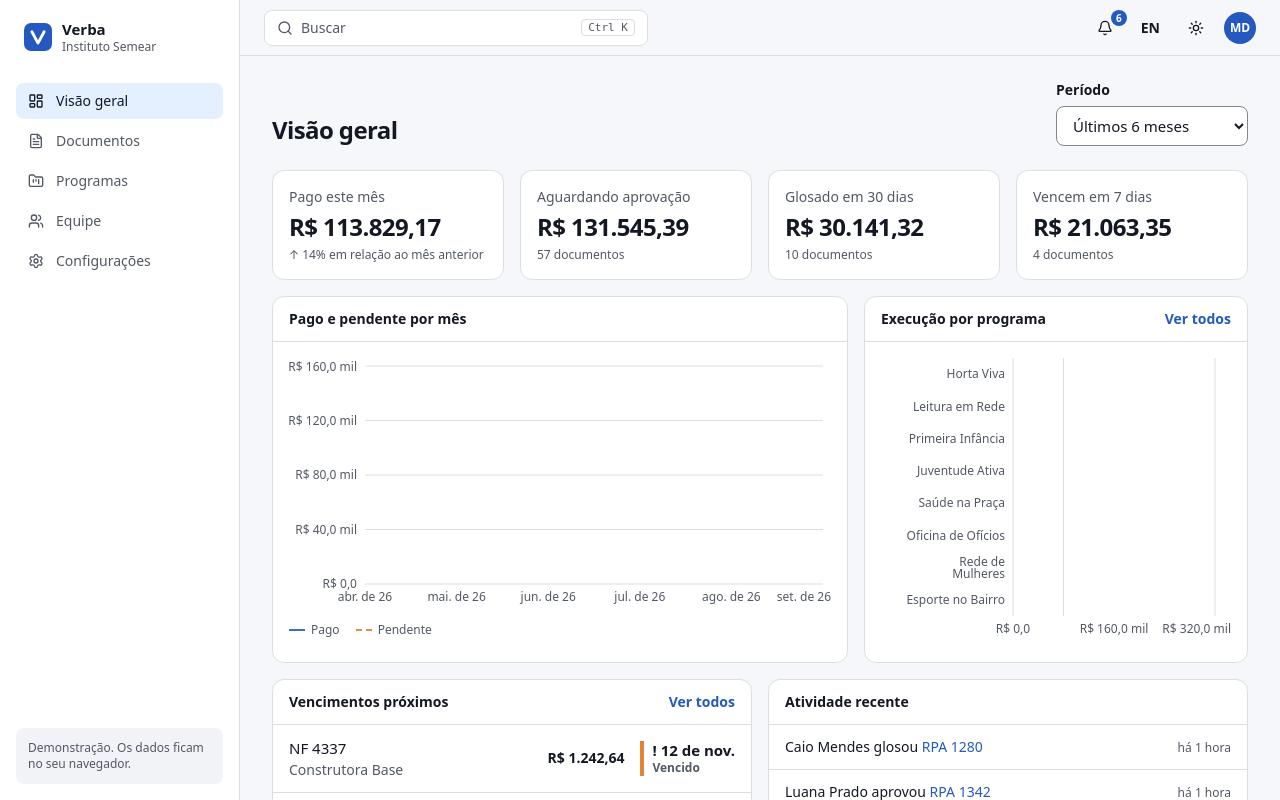
demo access › shows the login page again after signing out
The width and height of the screenshot is (1280, 800).
Type keys "{Control>}k{/Control}"
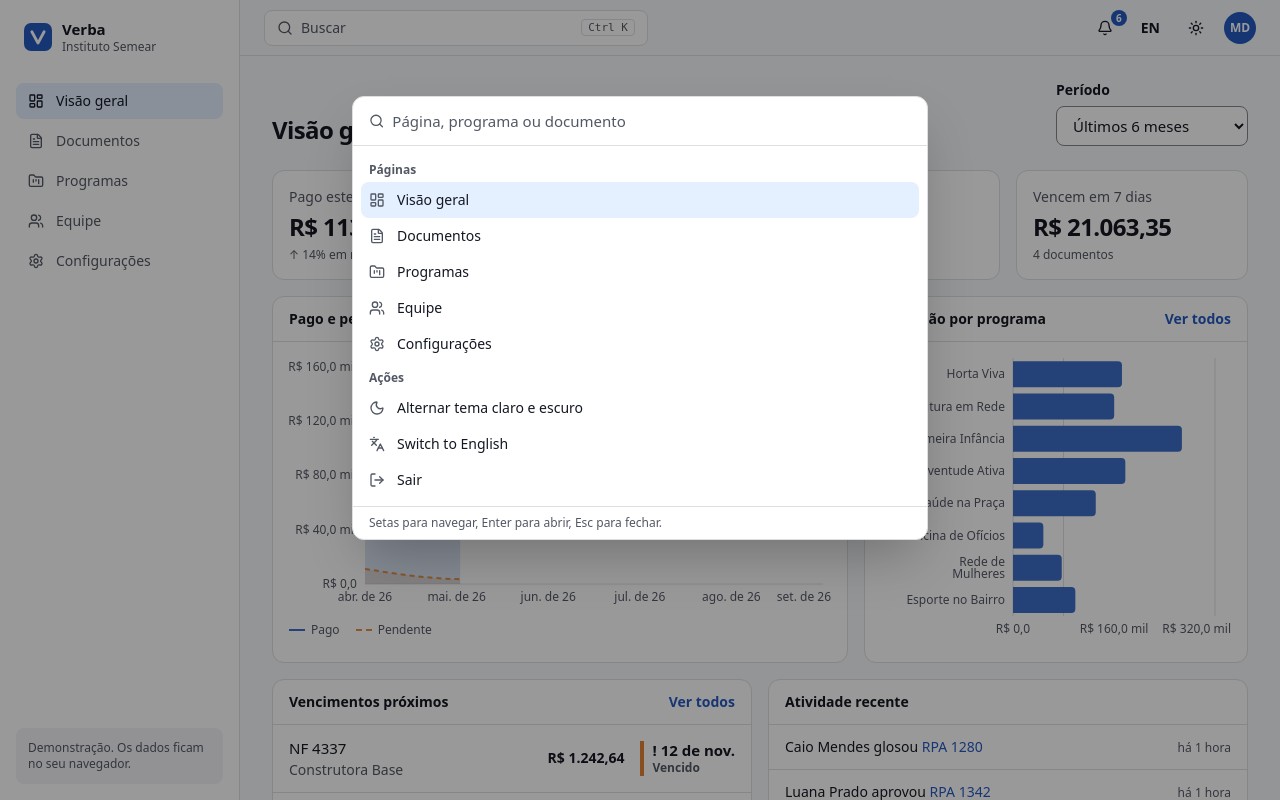
Type "sair" into the dropdown named "Buscar ou ir para". click: [652, 121]
box: x1=392 y1=97 x2=911 y2=145
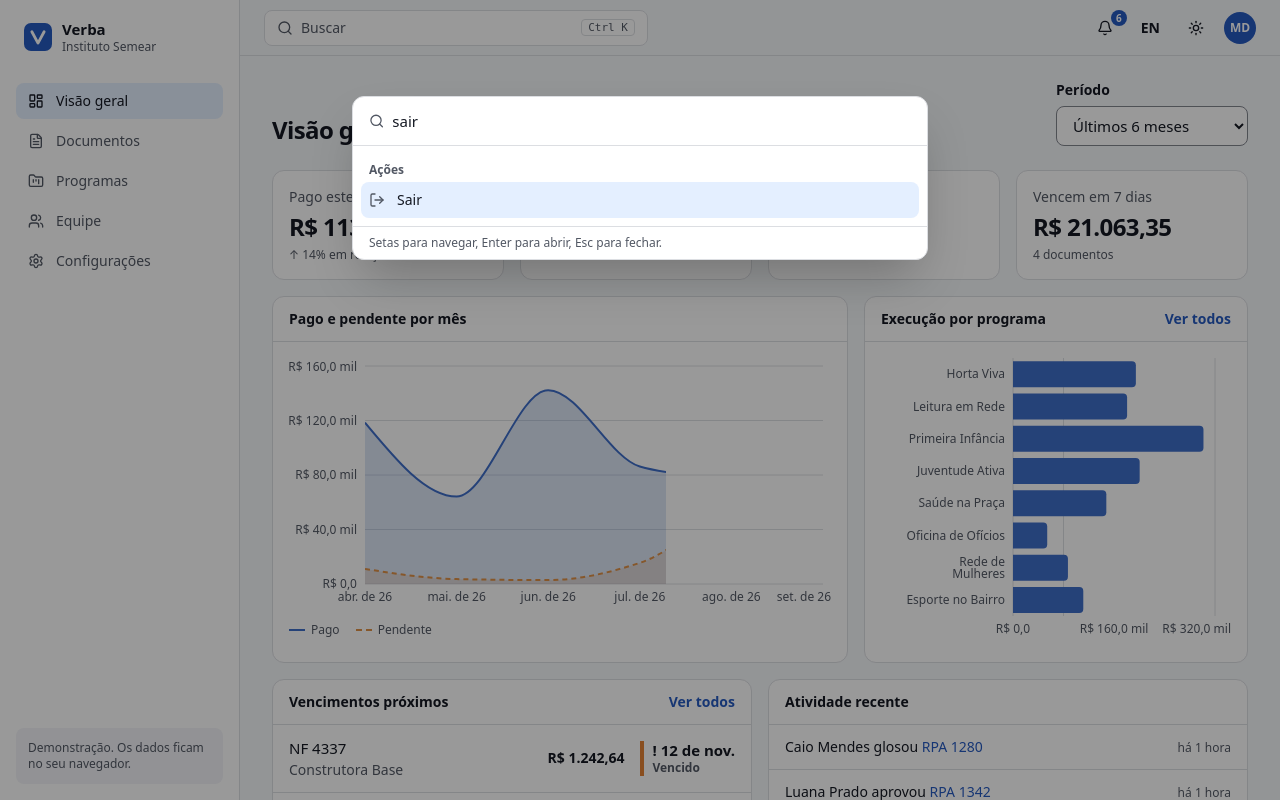
Press Enter
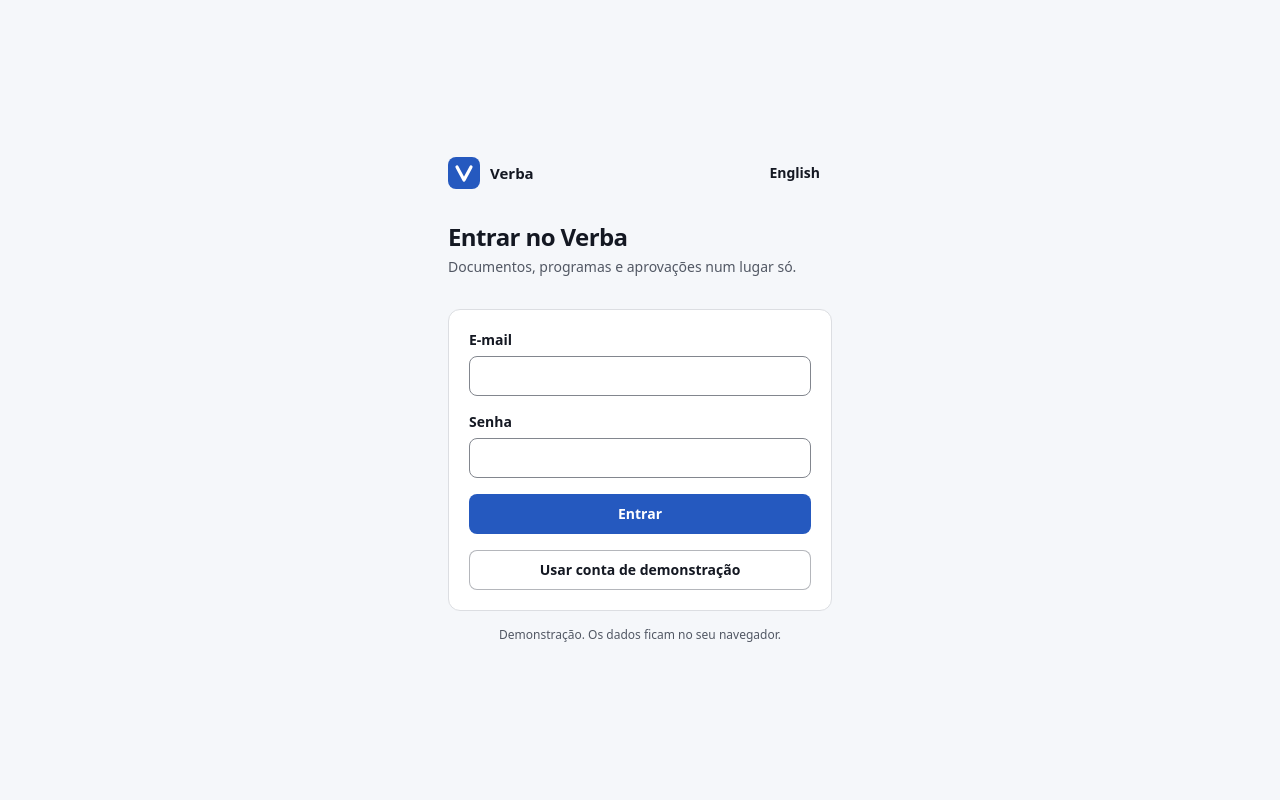
Check: the heading "Entrar no Verba" is shown, box x1=448 y1=220 x2=627 y2=253
